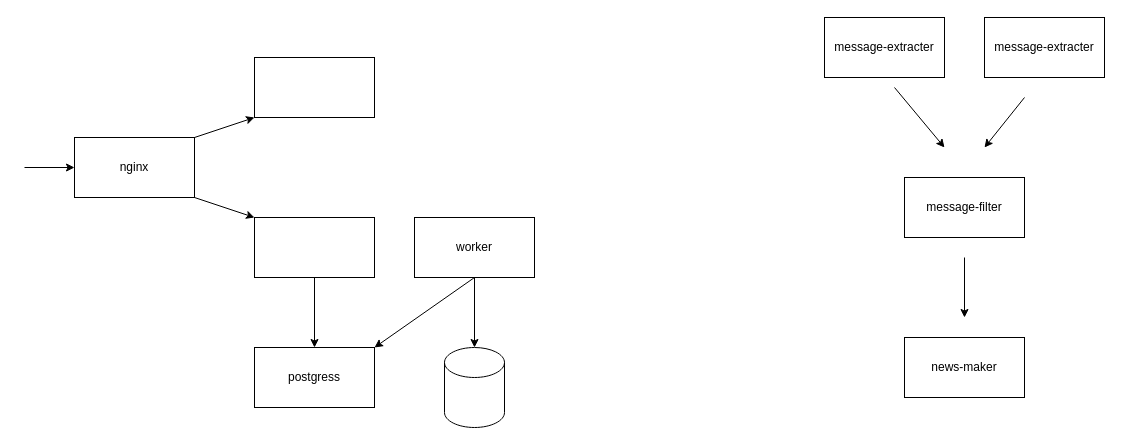
This 1122x445 diagram has some shape labels left out. The shapes that lost their labels are listed below. From the top down, each one's centre as x and y in pixels, then its label:
[314,87]: React
[314,247]: backend (python/fastapi)
[474,387]: redis
